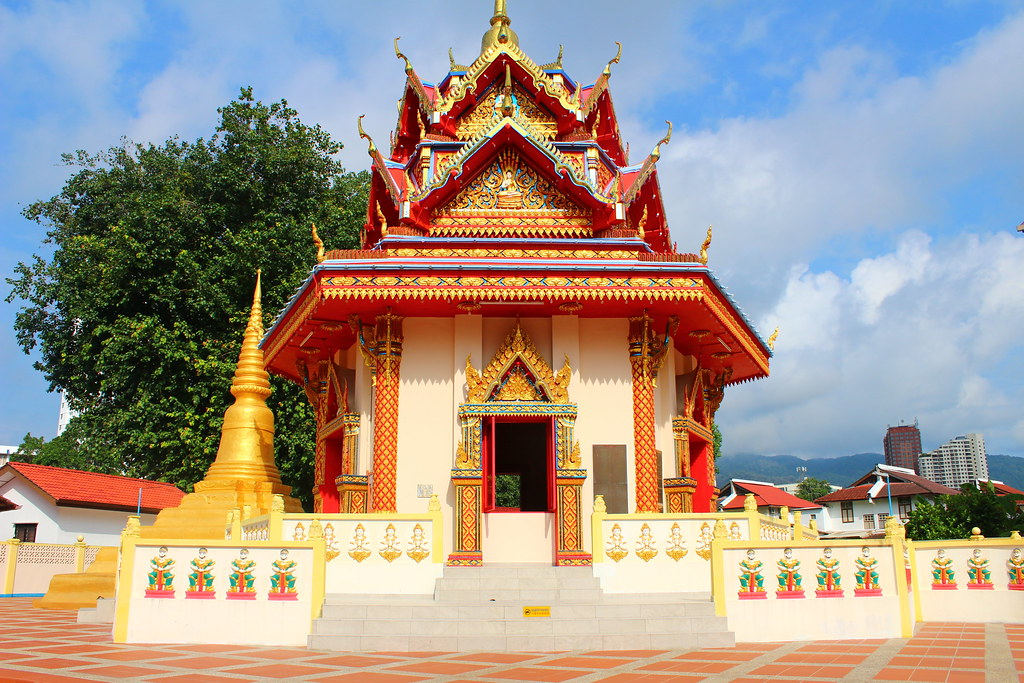Buddhist Temple: (202, 4, 744, 628)
